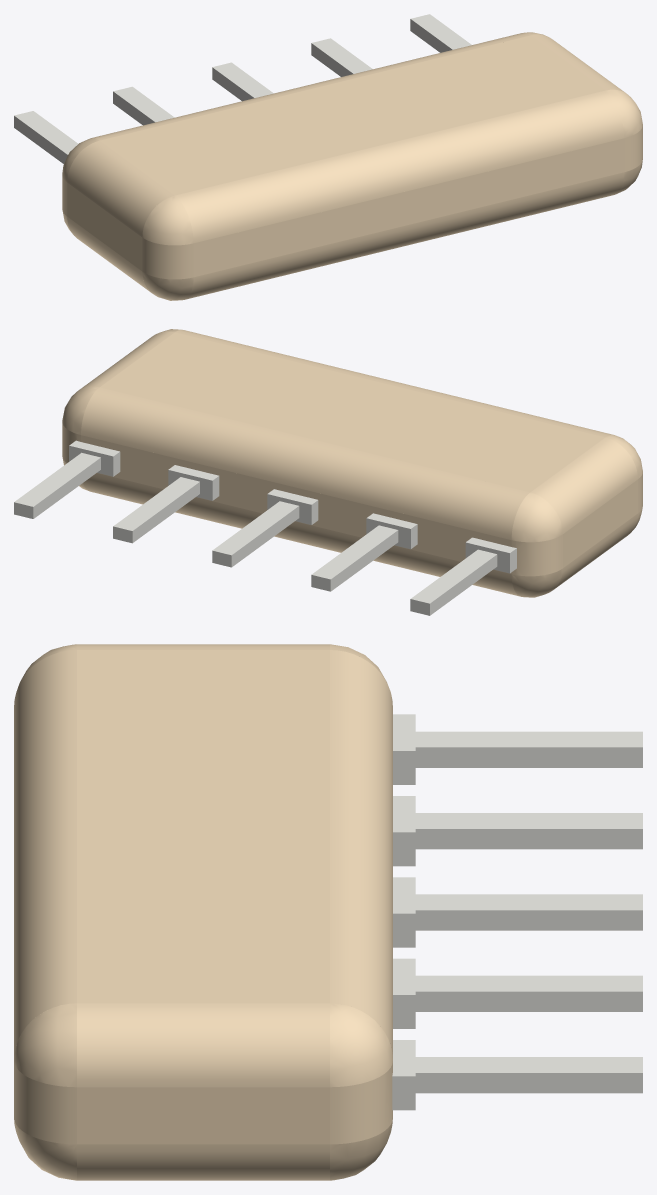
The model's file is R_Array_SIP5.glb.
The picture shows the model from 3 angles, top to bottom: view 1: azimuth 30°, elevation 25°; view 2: azimuth 150°, elevation 25°; view 3: azimuth 270°, elevation 25°; orthographic projection. The views are drawn at different scales.
Parts seen in each view (by area): view 1: Shape_IndexedFaceSet.043, Shape_IndexedFaceSet.017, Shape_IndexedFaceSet.007, Shape_IndexedFaceSet.003, Shape_IndexedFaceSet.018, Shape_IndexedFaceSet.010, Shape_IndexedFaceSet.025, Shape_IndexedFaceSet.041, Shape_IndexedFaceSet.015, Shape_IndexedFaceSet.004, Shape_IndexedFaceSet.021, Shape_IndexedFaceSet.008 (+12 smaller); view 2: Shape_IndexedFaceSet.043, Shape_IndexedFaceSet.025, Shape_IndexedFaceSet.014, Shape_IndexedFaceSet.006, Shape_IndexedFaceSet.018, Shape_IndexedFaceSet.010, Shape_IndexedFaceSet.017, Shape_IndexedFaceSet.044, Shape_IndexedFaceSet.019, Shape_IndexedFaceSet.071, Shape_IndexedFaceSet.055, Shape_IndexedFaceSet.059 (+16 smaller); view 3: Shape_IndexedFaceSet.043, Shape_IndexedFaceSet.025, Shape_IndexedFaceSet.017, Shape_IndexedFaceSet.021, Shape_IndexedFaceSet.012, Shape_IndexedFaceSet.005, Shape_IndexedFaceSet.056, Shape_IndexedFaceSet.068, Shape_IndexedFaceSet.060, Shape_IndexedFaceSet.064, Shape_IndexedFaceSet.072, Shape_IndexedFaceSet.047 (+21 smaller).
Boxes of the visible parts, <box> form: Shape_IndexedFaceSet.043: <box>100,35,604,195</box>; Shape_IndexedFaceSet.017: <box>175,90,624,242</box>; Shape_IndexedFaceSet.007: <box>193,138,624,277</box>; Shape_IndexedFaceSet.003: <box>185,172,624,299</box>; Shape_IndexedFaceSet.018: <box>67,140,174,236</box>; Shape_IndexedFaceSet.010: <box>67,183,142,270</box>; Shape_IndexedFaceSet.025: <box>92,33,529,140</box>; Shape_IndexedFaceSet.041: <box>142,195,193,245</box>; Shape_IndexedFaceSet.015: <box>142,237,193,279</box>; Shape_IndexedFaceSet.004: <box>67,217,150,292</box>; Shape_IndexedFaceSet.021: <box>530,34,625,92</box>; Shape_IndexedFaceSet.008: <box>142,272,193,300</box>; Shape_IndexedFaceSet.043: <box>100,332,604,492</box>; Shape_IndexedFaceSet.025: <box>81,387,529,539</box>; Shape_IndexedFaceSet.014: <box>81,435,511,573</box>; Shape_IndexedFaceSet.006: <box>83,473,519,596</box>; Shape_IndexedFaceSet.018: <box>530,437,637,533</box>; Shape_IndexedFaceSet.010: <box>563,479,637,567</box>; Shape_IndexedFaceSet.017: <box>175,329,613,437</box>; Shape_IndexedFaceSet.044: <box>511,492,562,542</box>; Shape_IndexedFaceSet.019: <box>511,534,562,576</box>; Shape_IndexedFaceSet.071: <box>113,477,199,530</box>; Shape_IndexedFaceSet.055: <box>411,549,496,603</box>; Shape_IndexedFaceSet.059: <box>14,452,100,506</box>; Shape_IndexedFaceSet.043: <box>77,650,329,1003</box>; Shape_IndexedFaceSet.025: <box>330,650,392,1058</box>; Shape_IndexedFaceSet.017: <box>14,650,76,1057</box>; Shape_IndexedFaceSet.021: <box>77,1003,329,1087</box>; Shape_IndexedFaceSet.012: <box>77,1087,329,1144</box>; Shape_IndexedFaceSet.005: <box>77,1144,329,1180</box>; Shape_IndexedFaceSet.056: <box>415,747,642,767</box>; Shape_IndexedFaceSet.068: <box>415,910,642,930</box>; Shape_IndexedFaceSet.060: <box>415,1073,642,1093</box>; Shape_IndexedFaceSet.064: <box>415,829,642,849</box>; Shape_IndexedFaceSet.072: <box>415,991,642,1011</box>; Shape_IndexedFaceSet.047: <box>330,1003,392,1087</box>.
Bounding box in the file's own units: 5 × 0.988 × 3.27.
